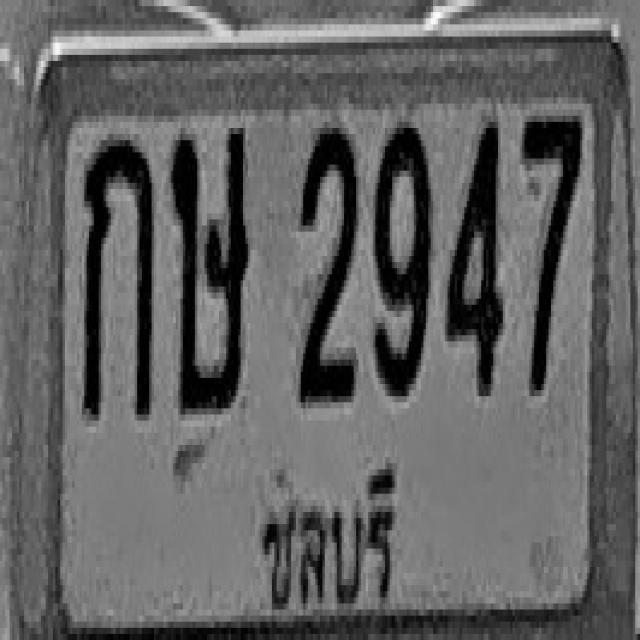10GorGai: (83, 131, 153, 418)
2: (298, 119, 356, 399)
4: (445, 113, 503, 393)
48SorRueSi: (170, 119, 249, 411)
7: (522, 110, 582, 390)
9: (373, 119, 431, 393)
Chonburi: (252, 455, 402, 640)
